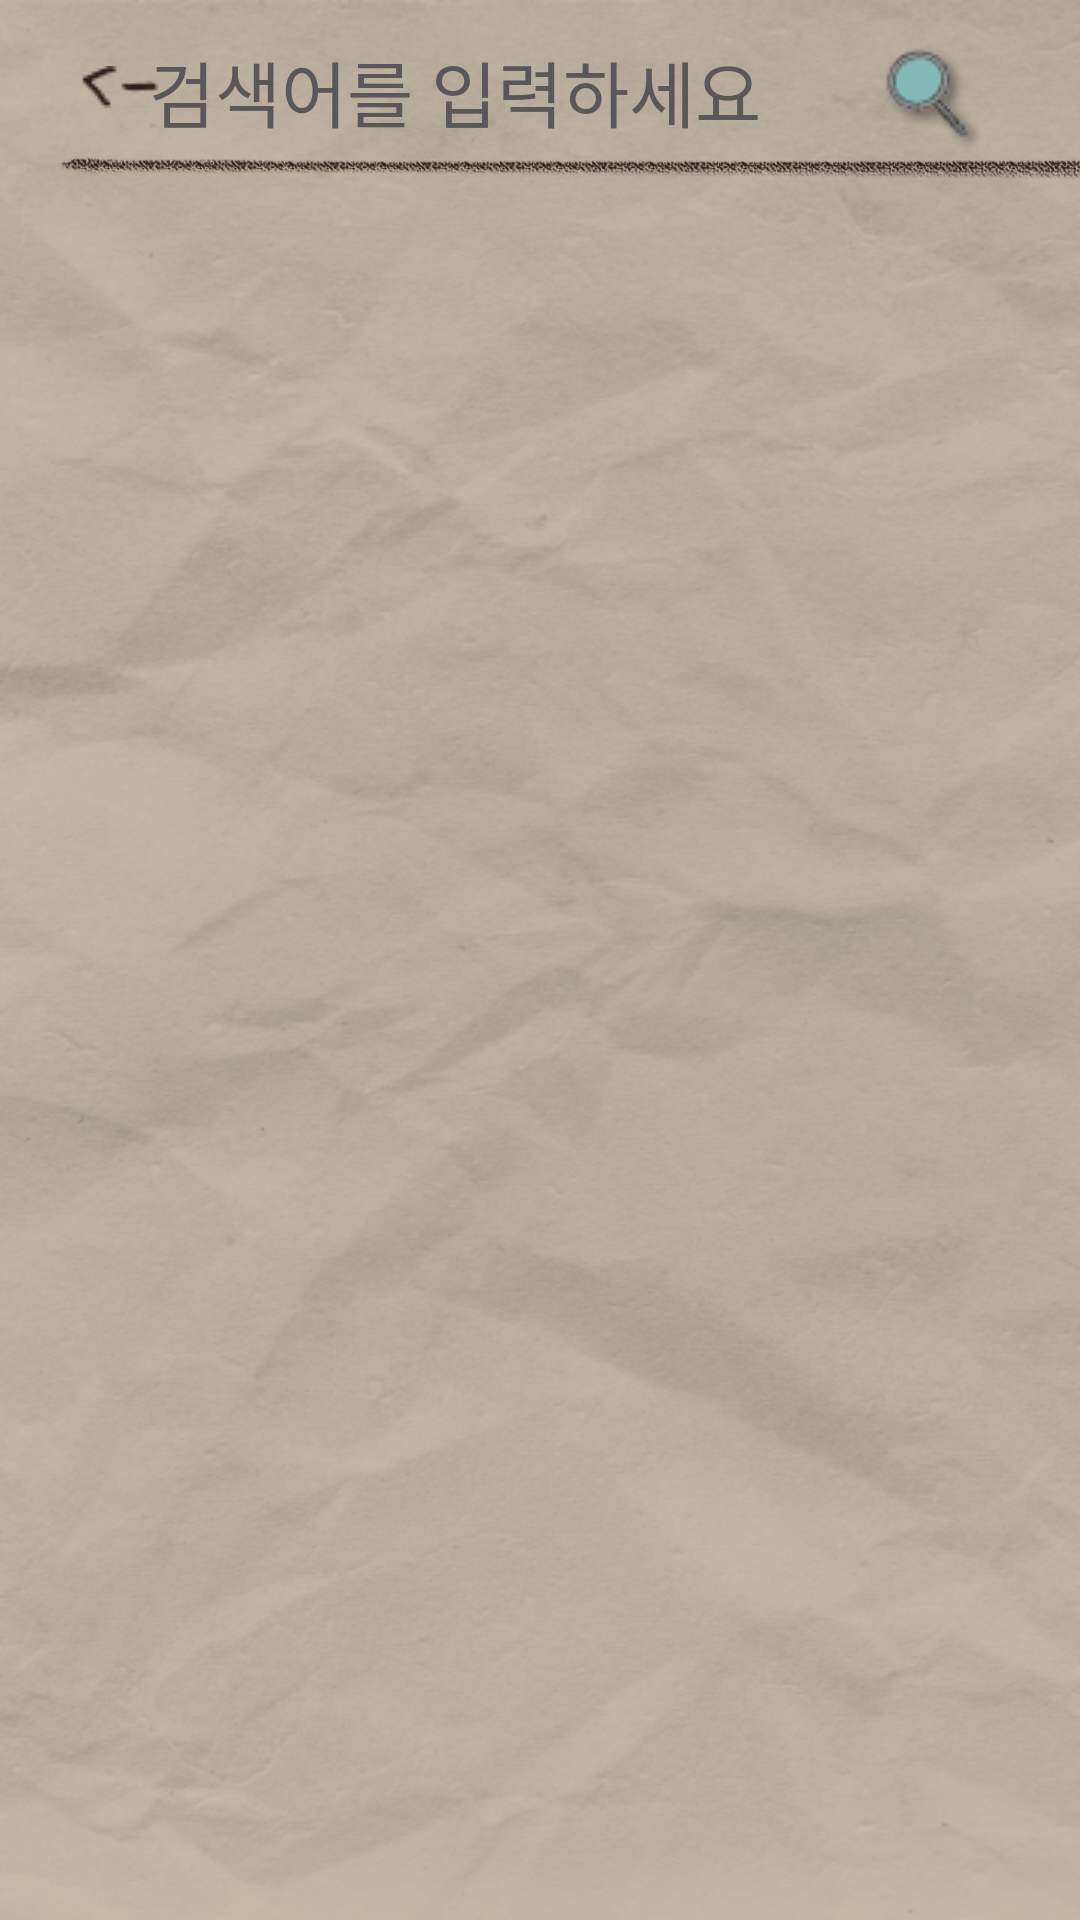

Where to tap for icons on this 1080px x 1920px app screen, as point (x, y):
searchicon: point (929, 95)
